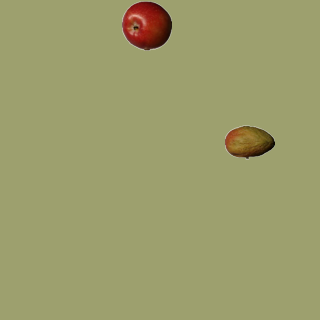Apple Braeburn: (121, 0, 171, 50)
Papaya: (224, 117, 274, 167)
